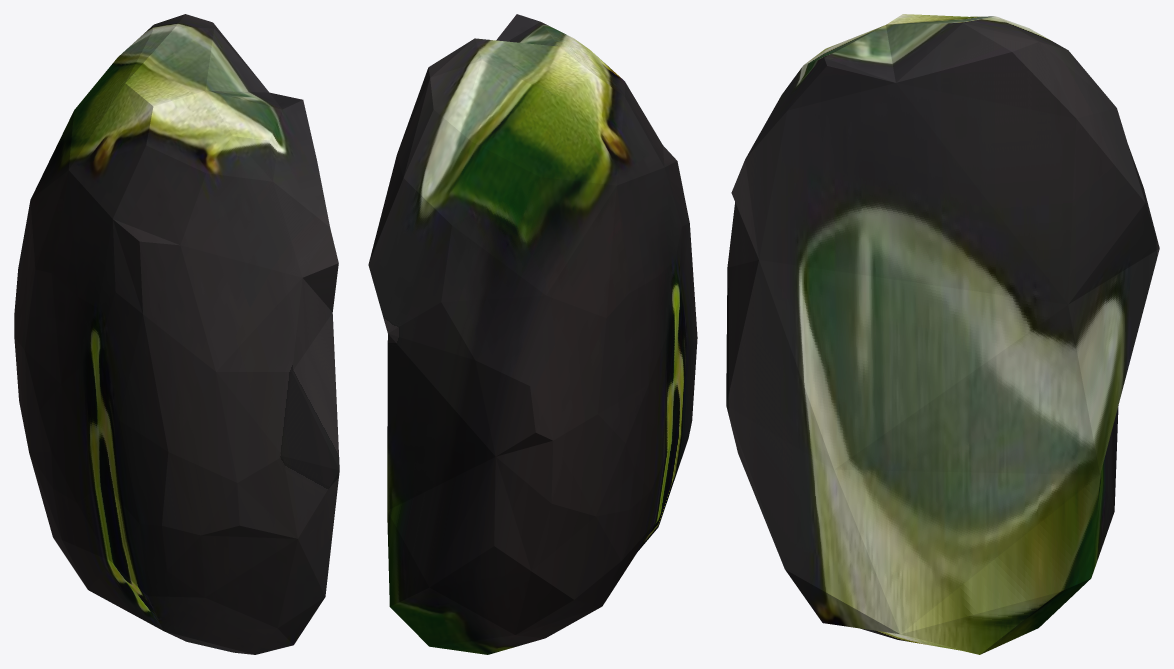
The picture shows the model from 3 angles, left to right: view 1: azimuth 30°, elevation 25°; view 2: azimuth 150°, elevation 25°; view 3: azimuth 270°, elevation 25°; orthographic projection. The views are drawn at different scales.
Parts seen in each view (by area): view 1: Renderer Node; view 2: Renderer Node; view 3: Renderer Node.
Part boxes in pixels (left/top/right/bottom): Renderer Node: left=14, top=14, right=339, bottom=654; Renderer Node: left=368, top=14, right=697, bottom=654; Renderer Node: left=726, top=14, right=1159, bottom=654.
Size of the model in its own units: 0.1037 by 0.3022 by 0.1891.
Materials: 1 (1 with a texture image).
